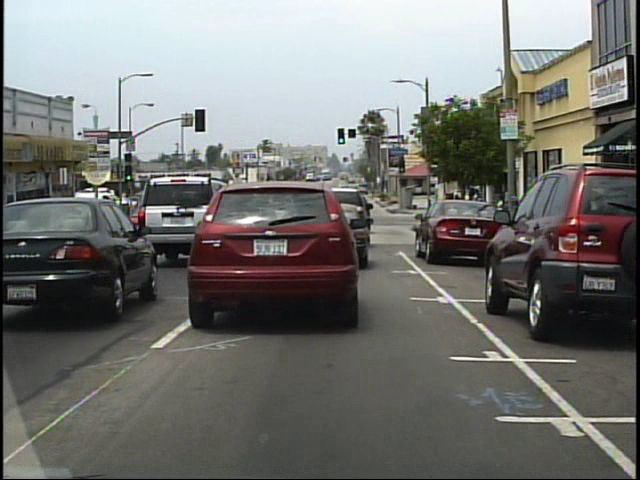person: (461, 193, 474, 234), (450, 193, 462, 234), (470, 191, 484, 226)
